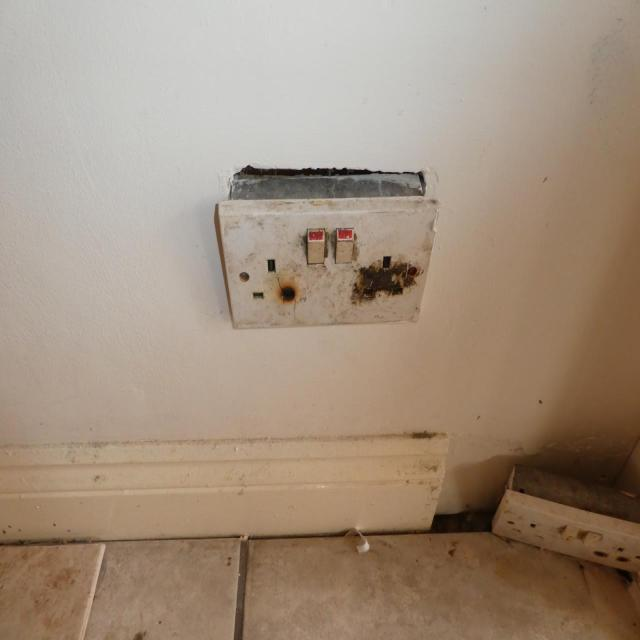dangerous_electrical_socket: (203, 129, 484, 378)
